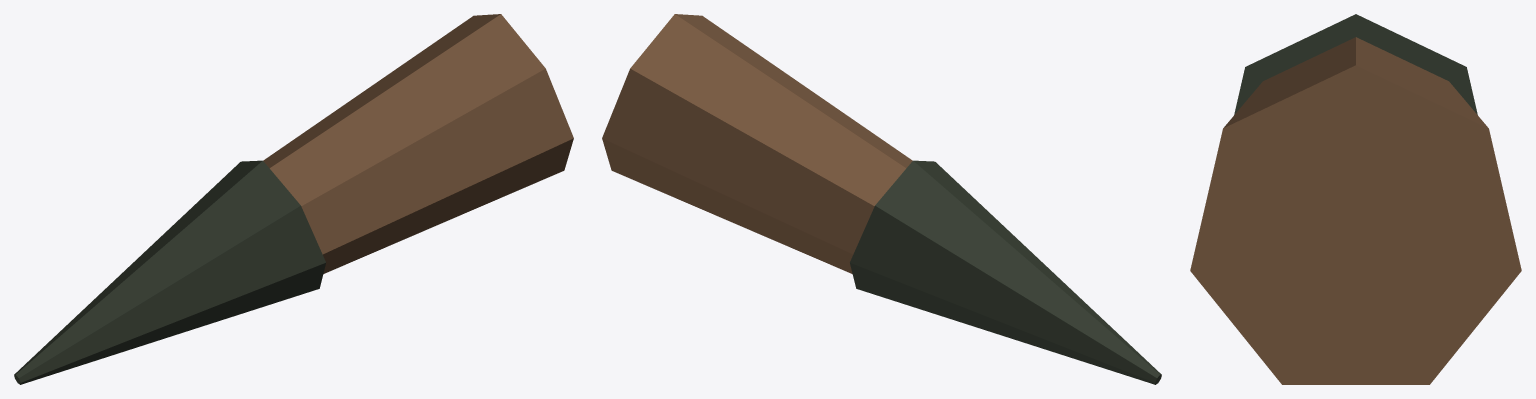
File: wolf_tail.glb
3 renders of one model, left to right at view 1: azimuth 30°, elevation 25°; view 2: azimuth 150°, elevation 25°; view 3: azimuth 270°, elevation 25°, orthographic. The views are drawn at different scales.
Visible parts, largest first — view 1: wolf_tail; view 2: wolf_tail; view 3: wolf_tail.
Boxes of the visible parts, <box> form: wolf_tail: <box>14,14,573,384</box>; wolf_tail: <box>602,14,1161,384</box>; wolf_tail: <box>1190,14,1521,384</box>.
Bounding box in the file's own units: 0.5949 × 0.2714 × 0.1755.
